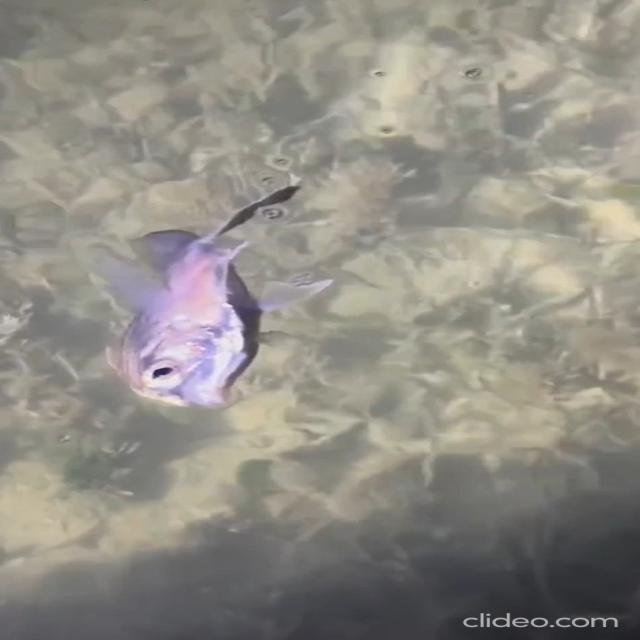fish: (117, 185, 330, 431)
